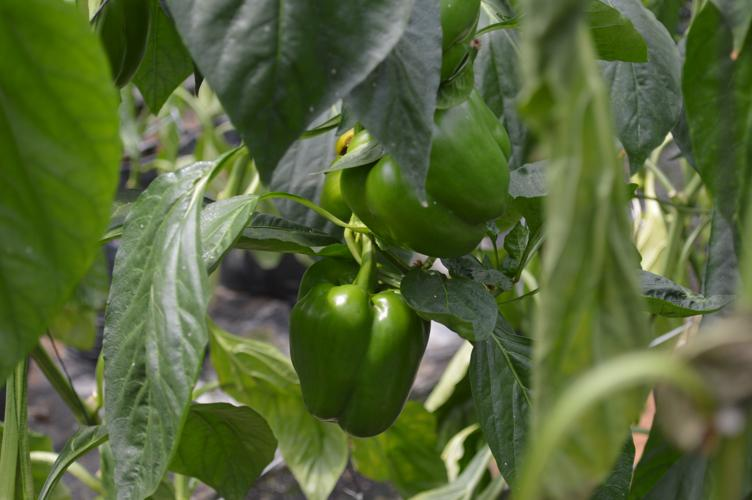BellPepper: (343, 93, 514, 258), (293, 254, 424, 435)
